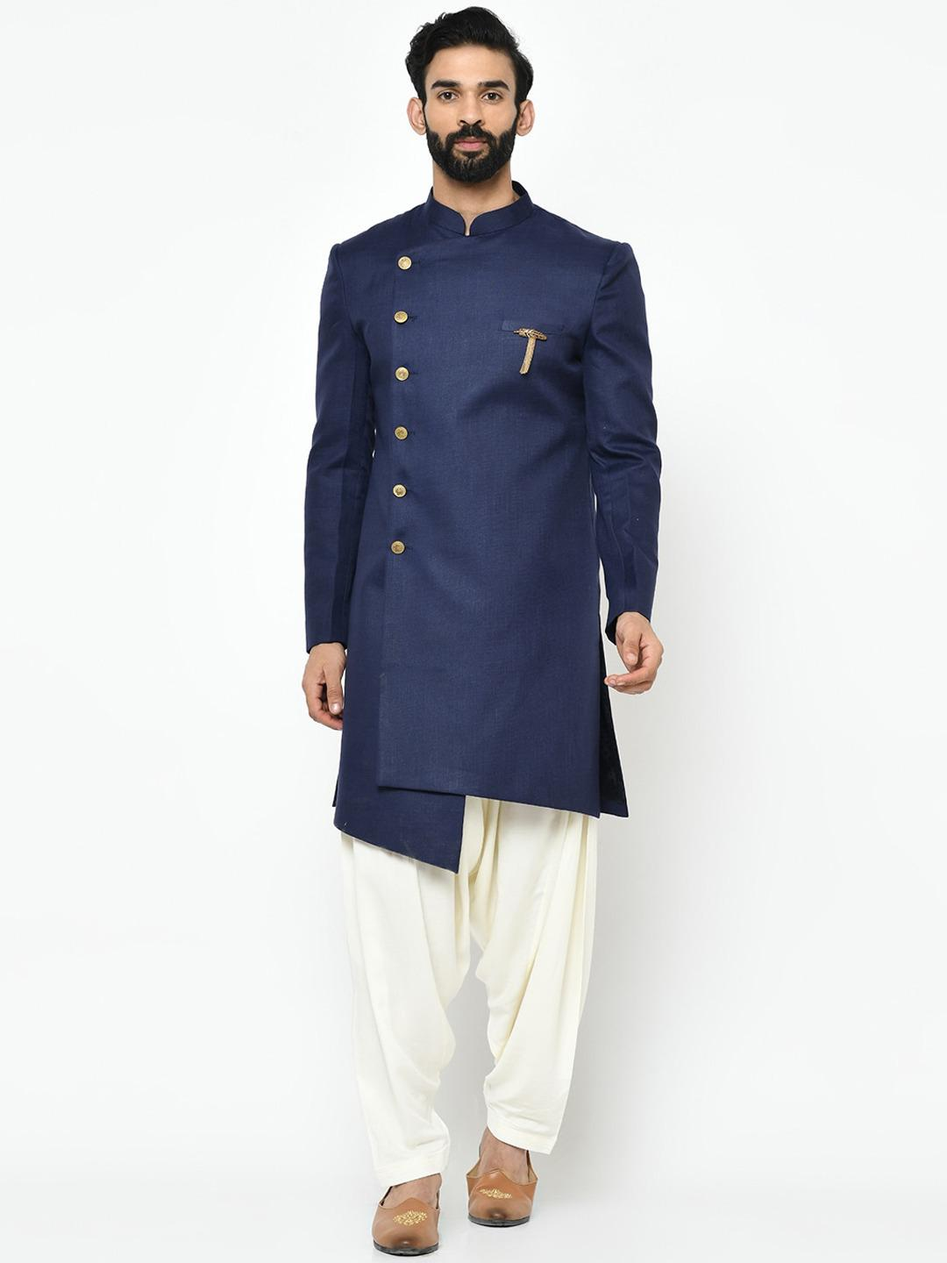Plain sherwani: (299, 178, 666, 880)
